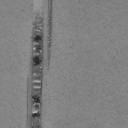slag inclusion: (27, 17, 44, 128), (48, 0, 52, 60)
